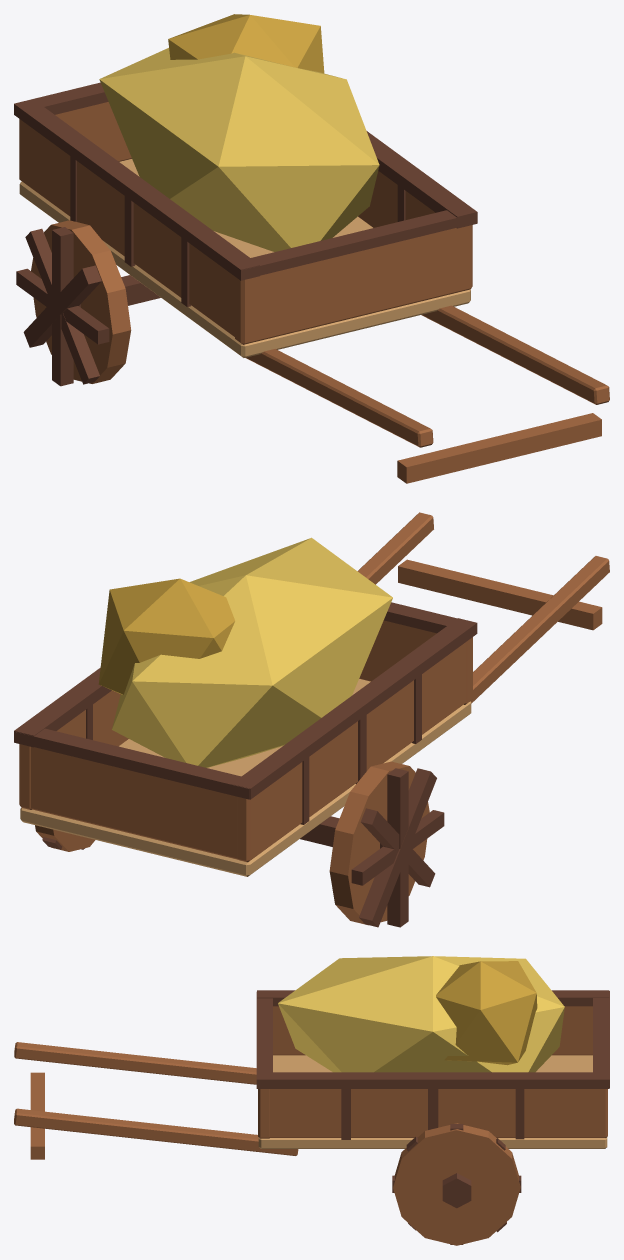
Rendered from Cart_Hay.fbx.
3 renders of one model, top to bottom at view 1: azimuth 30°, elevation 25°; view 2: azimuth 150°, elevation 25°; view 3: azimuth 270°, elevation 25°, orthographic. The views are drawn at different scales.
Visible parts, largest first — view 1: Cart_Hay; view 2: Cart_Hay; view 3: Cart_Hay.
Boxes of the visible parts, box(x1,y1,x2,y2) form: Cart_Hay: box(14, 14, 609, 483); Cart_Hay: box(14, 512, 609, 927); Cart_Hay: box(14, 956, 609, 1245).
Size of the model in its own units: 1.97 by 1.66 by 3.77.
